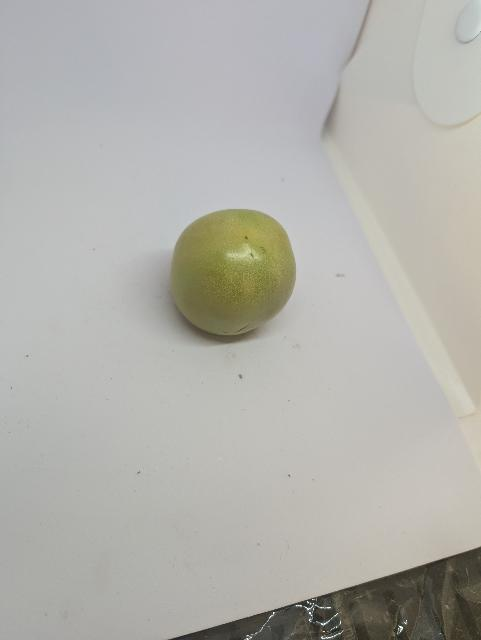green: (170, 207, 298, 338)
